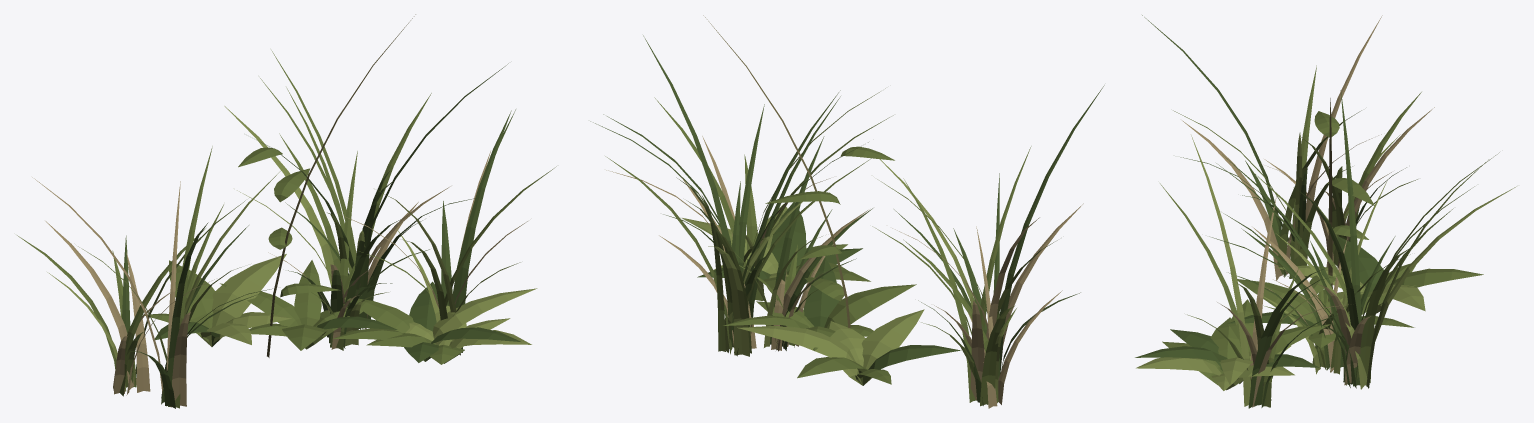
Rendered from WallWeeds_0.fbx.
3 views of the same model, side by side, from view 1: azimuth 30°, elevation 25°; view 2: azimuth 150°, elevation 25°; view 3: azimuth 270°, elevation 25° (orthographic).
Parts seen in each view (by area): view 1: WallWeeds_0; view 2: WallWeeds_0; view 3: WallWeeds_0.
Boxes of the visible parts, x1,y1,x2,y2 form: WallWeeds_0: (17,14,556,408); WallWeeds_0: (590,15,1104,408); WallWeeds_0: (1135,15,1516,408).
Bounding box in the file's own units: 78.67 × 49.96 × 56.38.
